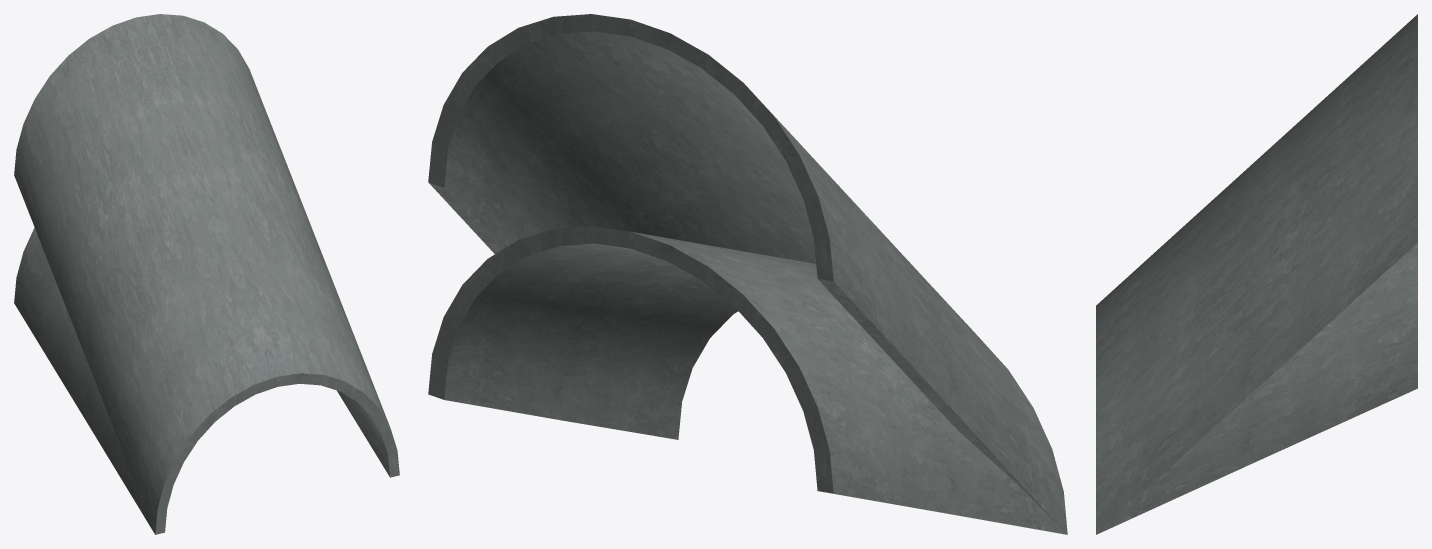
File: VaultC01-Up.fbx
The picture shows the model from 3 angles, left to right: view 1: azimuth 30°, elevation 25°; view 2: azimuth 150°, elevation 25°; view 3: azimuth 270°, elevation 25°; orthographic projection. The views are drawn at different scales.
Parts seen in each view (by area): view 1: Cieling Vault C01 Up A, Cieling Vault C01 Up C; view 2: Cieling Vault C01 Up A, Cieling Vault C01 Up C; view 3: Cieling Vault C01 Up A, Cieling Vault C01 Up C.
Boxes of the visible parts, left/top/right/bottom form: Cieling Vault C01 Up A: left=14, top=14, right=399, bottom=534; Cieling Vault C01 Up C: left=14, top=228, right=389, bottom=533; Cieling Vault C01 Up A: left=428, top=14, right=1067, bottom=534; Cieling Vault C01 Up C: left=428, top=226, right=1067, bottom=534; Cieling Vault C01 Up A: left=1096, top=14, right=1417, bottom=534; Cieling Vault C01 Up C: left=1097, top=243, right=1417, bottom=534.
Bounding box in the file's own units: 3 × 4.51 × 3.
